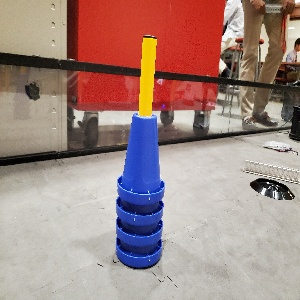Blue_4: (115, 112, 164, 270)
